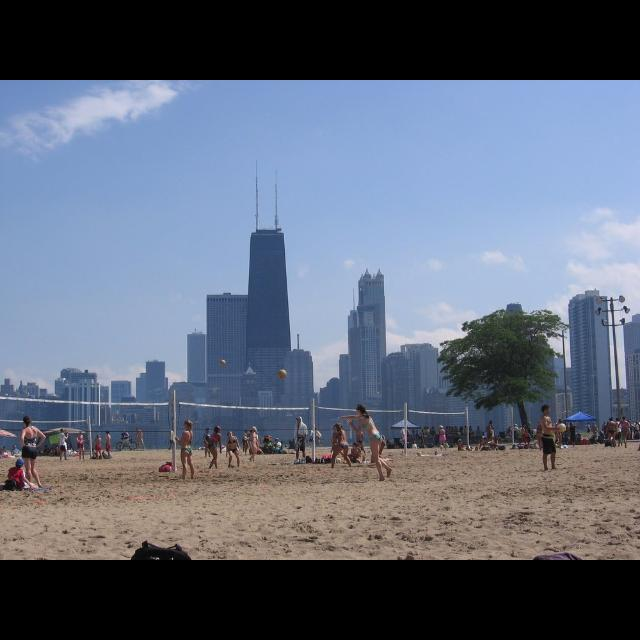head: (542, 404, 552, 416), (356, 404, 366, 416), (23, 416, 32, 426), (184, 420, 192, 430), (16, 459, 24, 469), (334, 425, 342, 433), (215, 427, 223, 435), (228, 430, 234, 438), (380, 434, 386, 442), (336, 424, 342, 430), (353, 443, 359, 449), (358, 427, 364, 433), (252, 427, 258, 433), (298, 416, 302, 422), (206, 428, 210, 434), (622, 417, 626, 421), (616, 418, 620, 422), (609, 418, 613, 422), (570, 423, 574, 427), (559, 420, 563, 424), (137, 428, 141, 432), (106, 432, 110, 436), (97, 435, 101, 439), (61, 429, 65, 433), (12, 446, 16, 450), (246, 430, 248, 434), (80, 433, 82, 437), (442, 426, 444, 429), (170, 430, 172, 432)
person: (338, 402, 394, 484), (18, 416, 48, 490), (540, 402, 568, 472), (175, 420, 198, 482), (328, 420, 352, 470), (8, 458, 40, 492), (369, 433, 397, 467), (292, 414, 310, 464), (206, 424, 224, 472), (328, 424, 346, 464), (225, 430, 243, 470), (248, 426, 262, 462), (616, 415, 630, 449), (354, 426, 368, 458), (346, 442, 364, 466), (606, 418, 620, 448), (566, 420, 580, 450), (58, 428, 70, 462), (201, 428, 213, 460), (76, 430, 86, 462), (553, 418, 563, 449), (614, 417, 624, 447), (135, 427, 147, 451), (94, 433, 104, 461), (438, 424, 448, 450), (104, 430, 112, 460), (242, 428, 250, 456), (10, 444, 22, 460), (168, 429, 176, 451)
